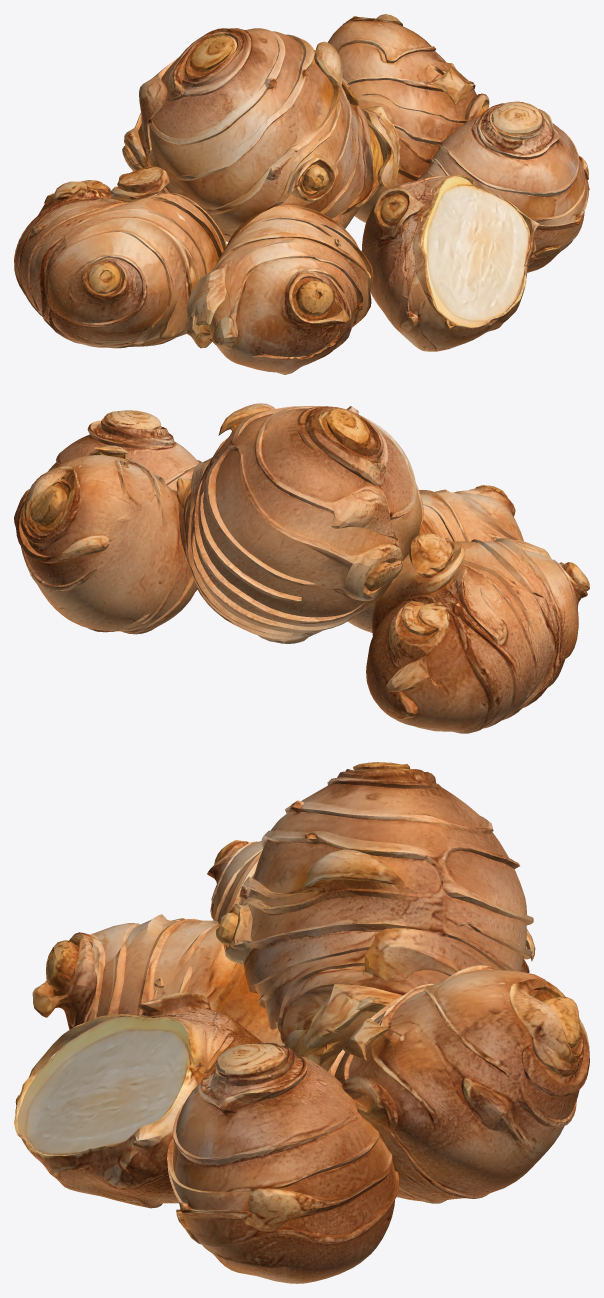
The model's file is lod_basic_pbr.fbx.
The picture shows the model from 3 angles, top to bottom: view 1: azimuth 30°, elevation 25°; view 2: azimuth 150°, elevation 25°; view 3: azimuth 270°, elevation 25°; orthographic projection. The views are drawn at different scales.
Parts seen in each view (by area): view 1: model_LOD0; view 2: model_LOD0; view 3: model_LOD0.
Part boxes in pixels (x1,y1,x2,y2): model_LOD0: (14,14,589,374); model_LOD0: (14,403,589,733); model_LOD0: (14,762,589,1283).
Size of what is drawn, in the model's own units: 190 by 95.68 by 136.
Materials: 1 (1 with a texture image).
